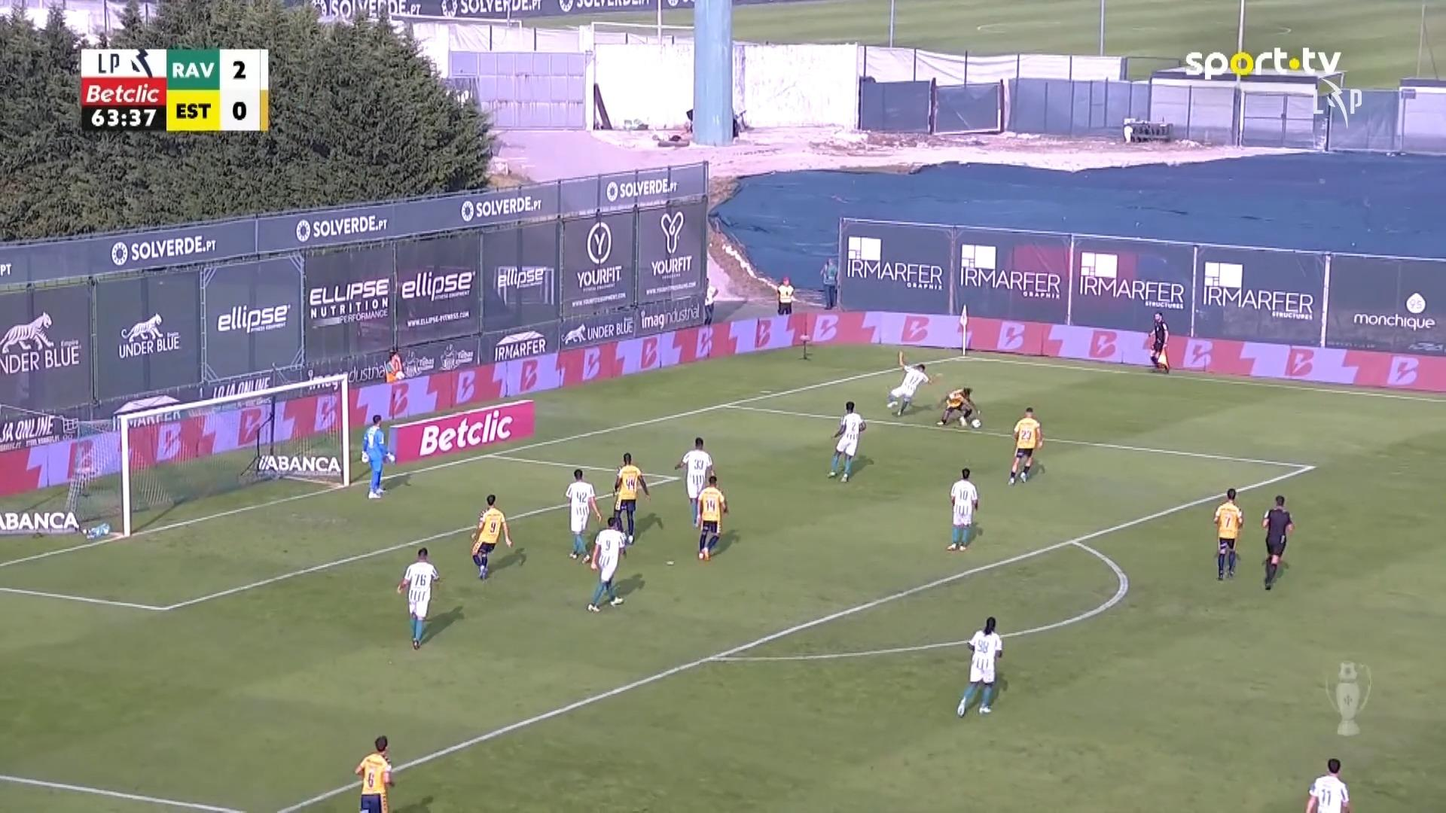ball: (972, 419, 981, 429)
goalkeeper: (360, 413, 395, 499)
player: (956, 616, 1003, 717), (395, 547, 441, 649), (585, 515, 627, 611), (673, 436, 714, 528), (469, 493, 512, 580), (563, 467, 602, 562), (612, 452, 650, 544), (827, 400, 865, 483), (354, 735, 395, 811), (1007, 406, 1045, 485), (694, 473, 728, 560), (886, 350, 930, 416), (1213, 487, 1243, 580), (947, 467, 978, 550), (1305, 757, 1350, 811), (936, 386, 981, 428)
referee: (1261, 493, 1295, 589), (1146, 311, 1170, 373)
